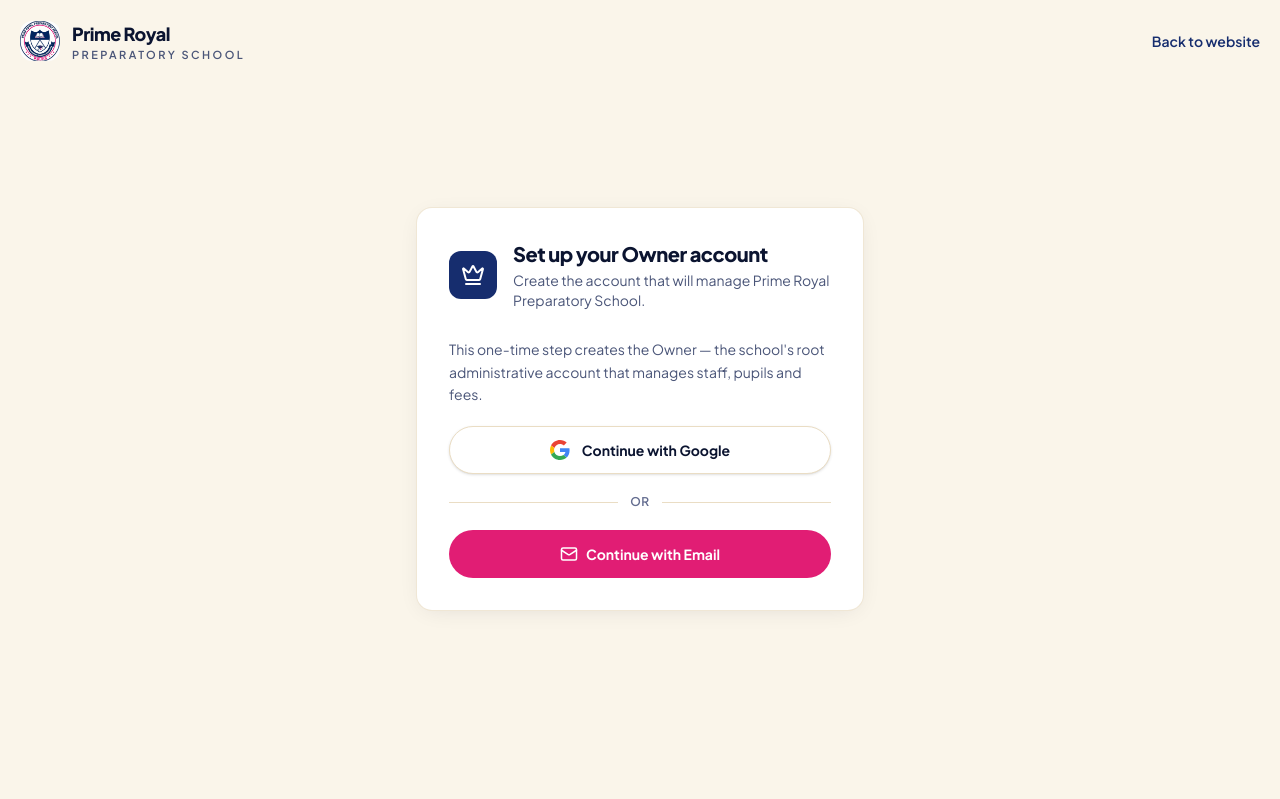
Test: OwnerSetupPage › rejects a password confirmation that does not match
Click the button "Continue with Email". click: (640,554)
box: [449,530,831,578]
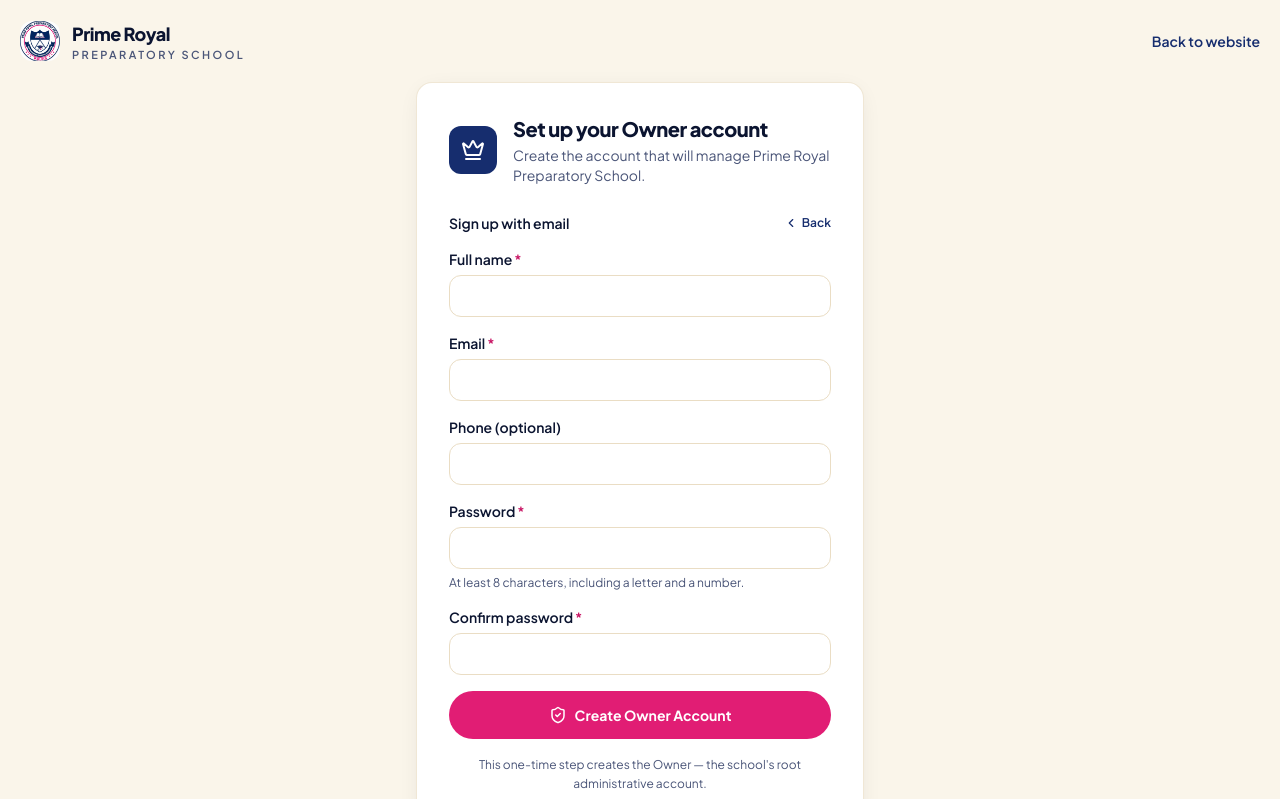
Type "Ada Lovelace" into the field labelled "Full name*". click: (640,296)
box: [449,275,831,317]
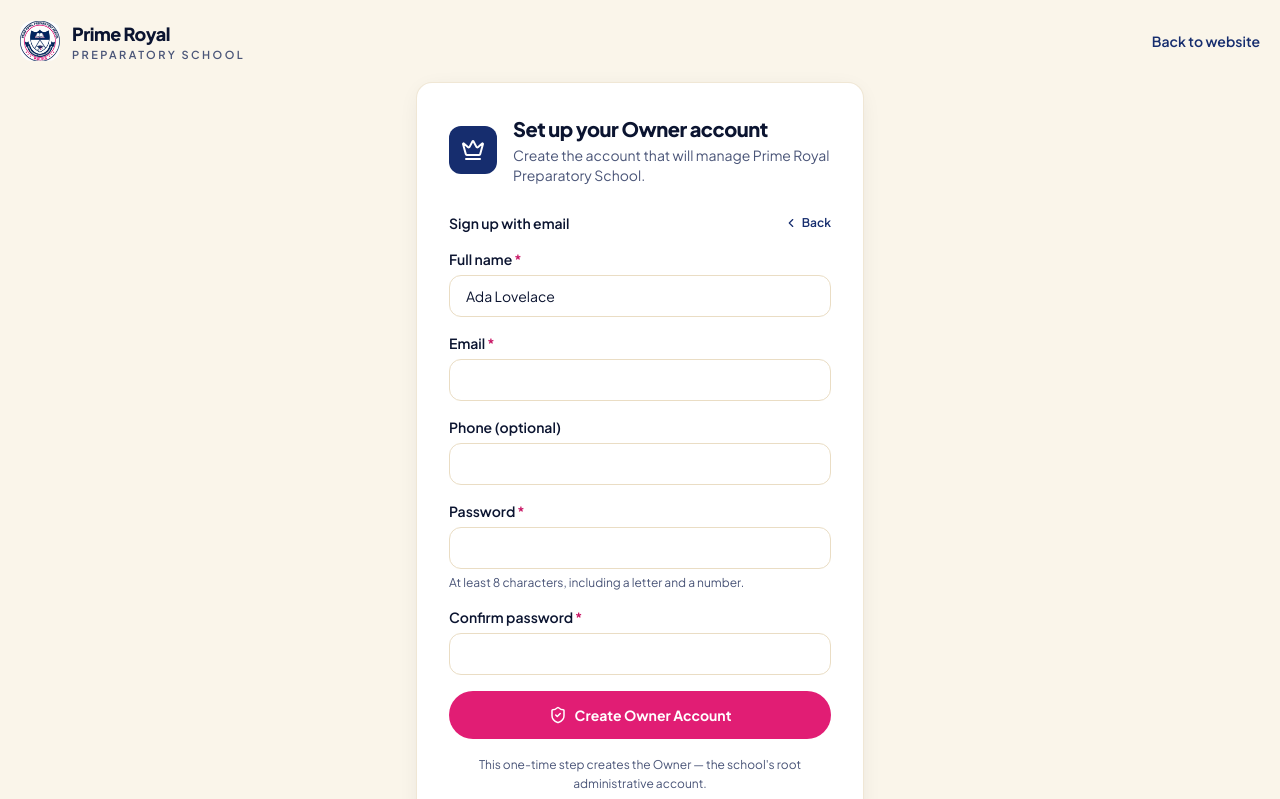
Type "ada@example.com" into the field labelled "Email*". click: (640,380)
box: [449,359,831,401]
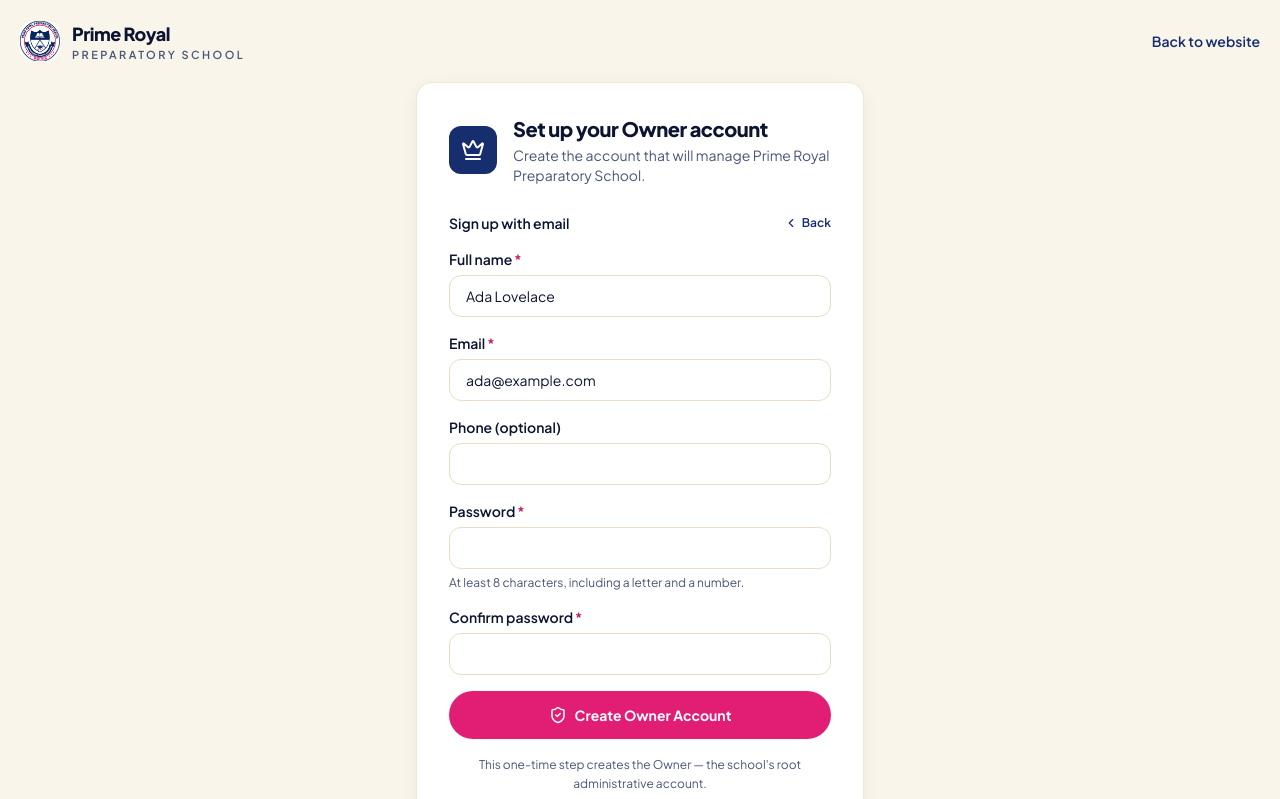
Type "secret123" into the password field labelled "Password*". click: (640,548)
box: [449,527,831,569]
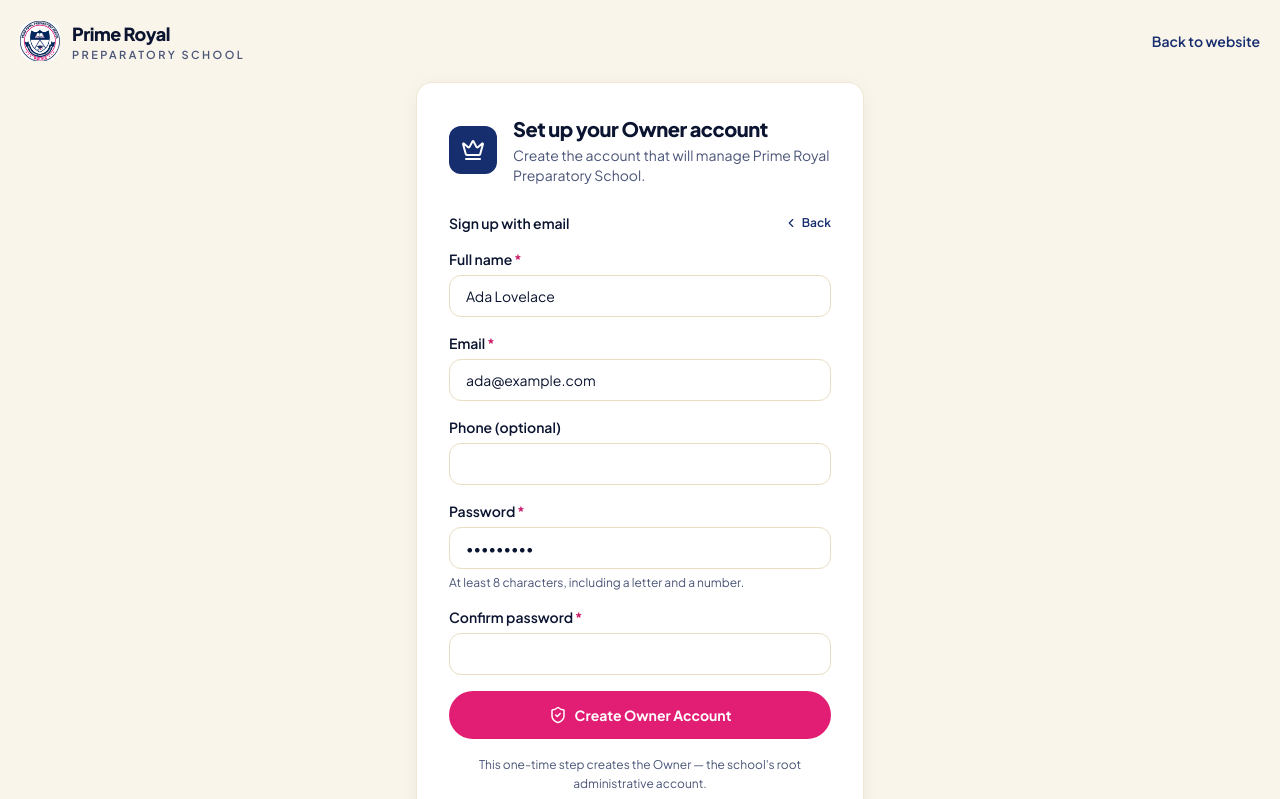
Type "secret124" into the password field labelled "Confirm password*". click: (640,654)
box: [449,633,831,675]
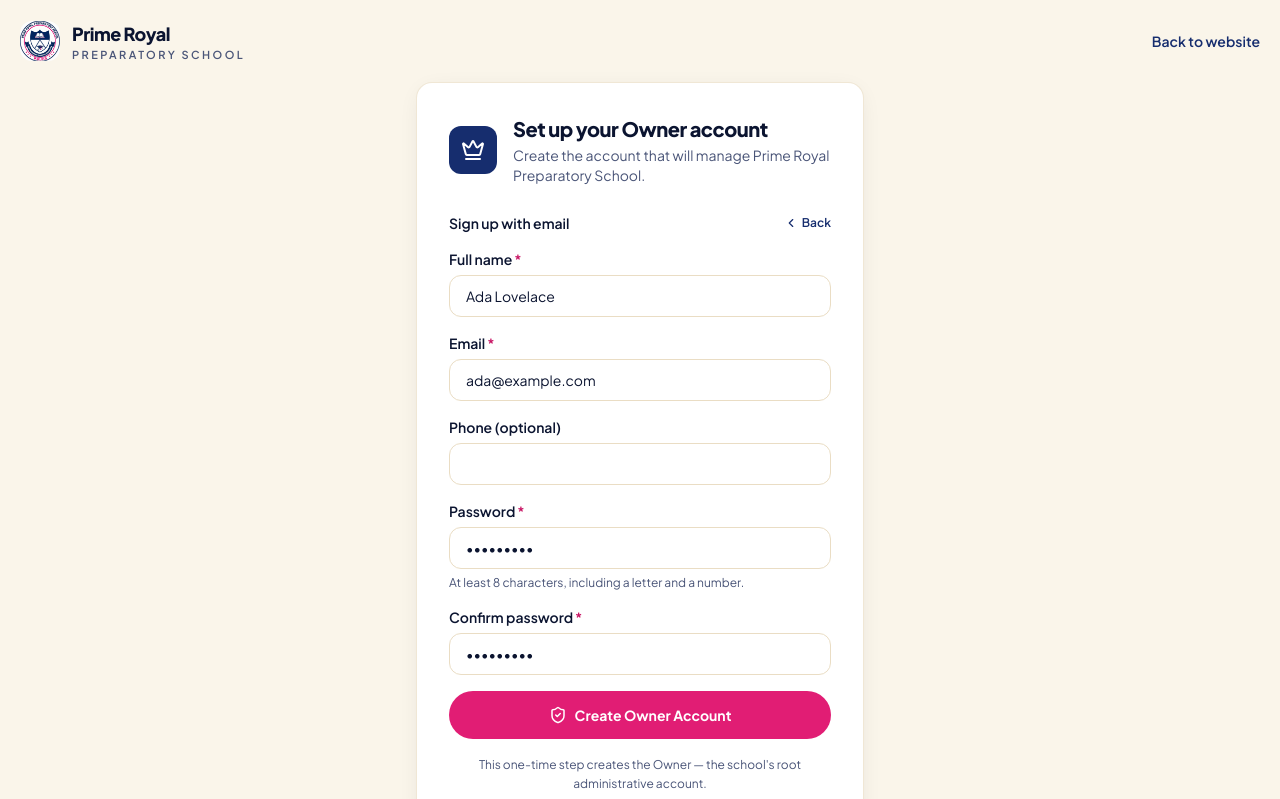
Click the button "Create Owner Account". click: (640,715)
box: [449,691,831,739]
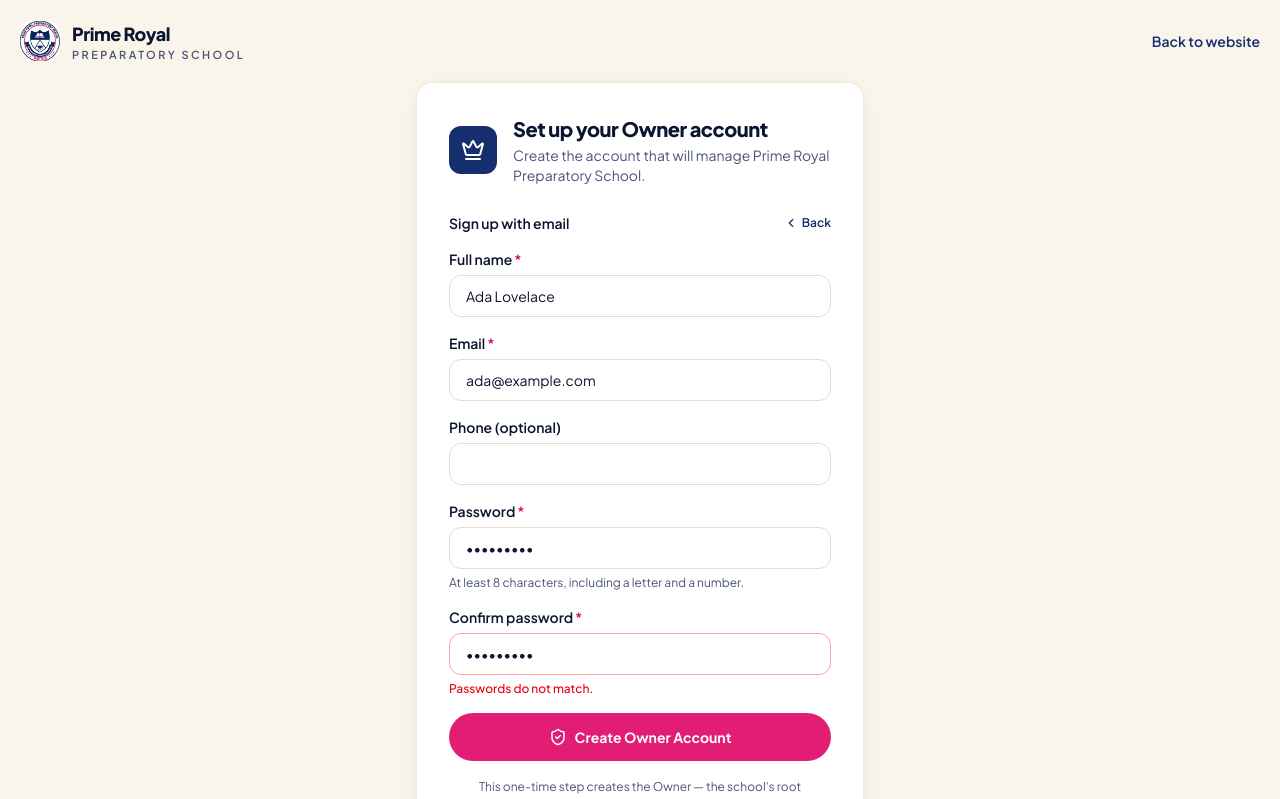
Check: the text "Passwords do not match." is shown, box [449,681,593,696]
